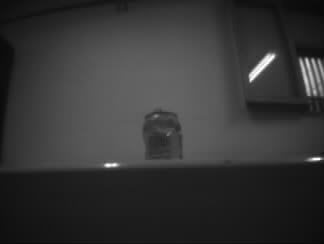Tin can: (140, 107, 184, 163)
